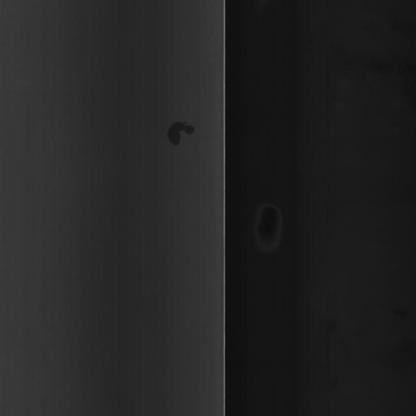oil_spot: (161, 110, 200, 158)
